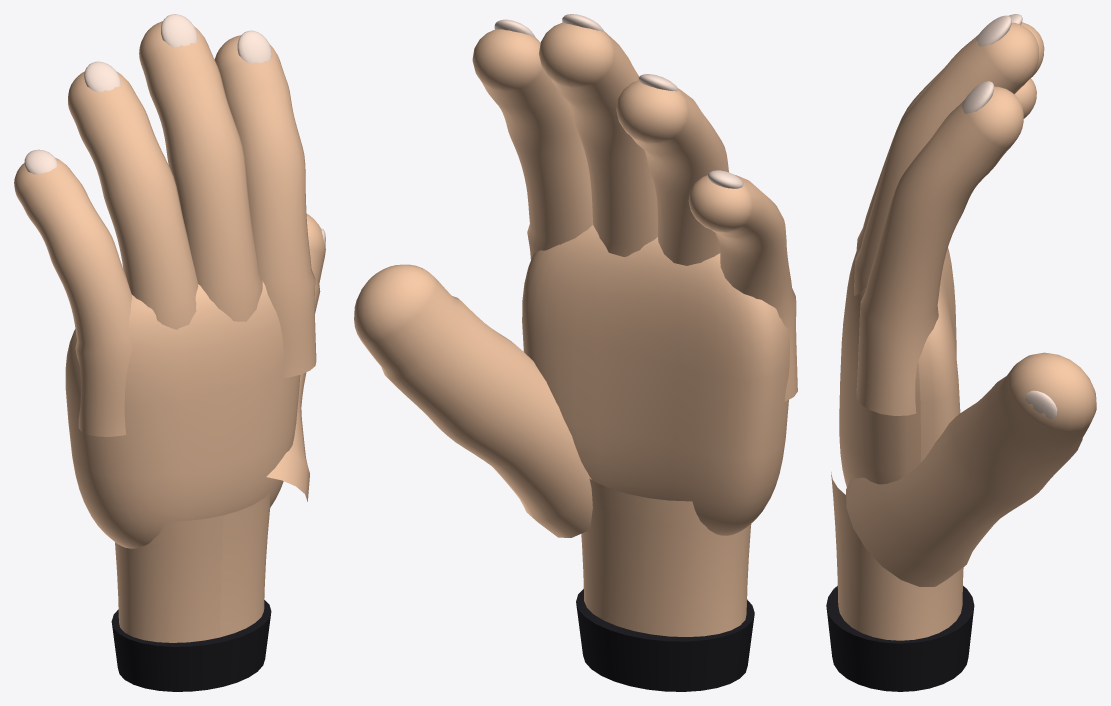
Rendered from hand-left-cup.glb.
The picture shows the model from 3 angles, left to right: view 1: azimuth 30°, elevation 25°; view 2: azimuth 150°, elevation 25°; view 3: azimuth 270°, elevation 25°; orthographic projection. The views are drawn at different scales.
Visible parts, largest first — view 1: hand-left-cup; view 2: hand-left-cup; view 3: hand-left-cup.
Part boxes in pixels (<box>): hand-left-cup: <box>14,14,325,691</box>; hand-left-cup: <box>354,14,797,691</box>; hand-left-cup: <box>826,14,1096,691</box>.
Size of the model in its own units: 0.1152 by 0.2042 by 0.0763.
